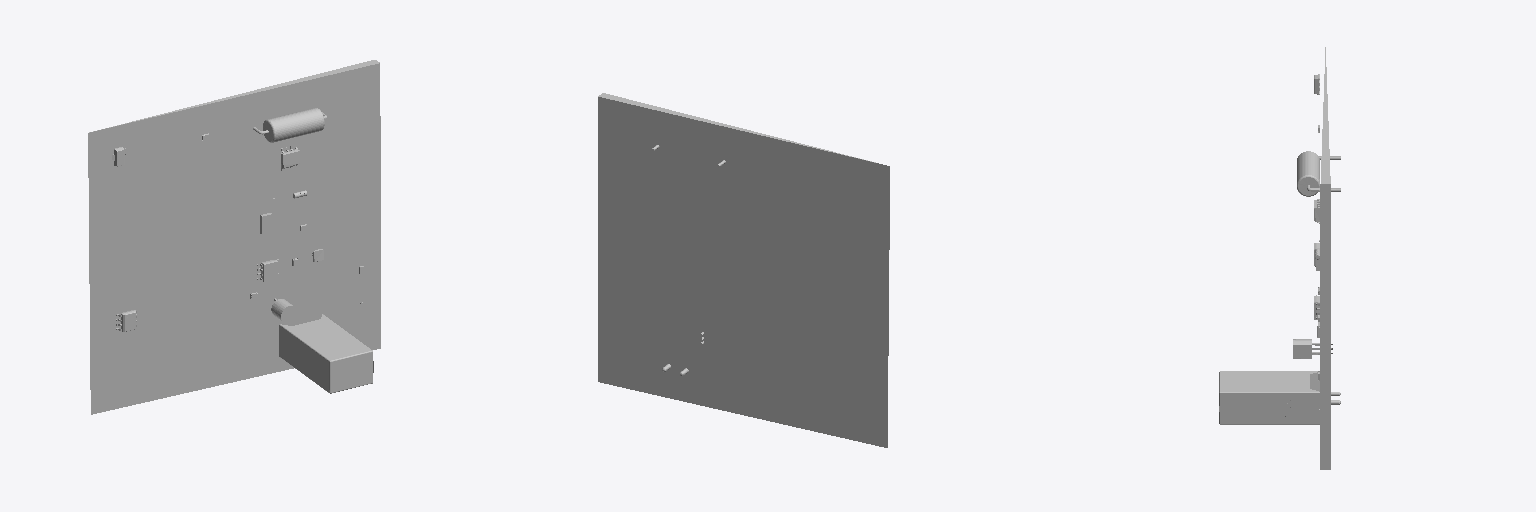
Rendered from OBJ_PCB_Industrial Motor Health Monitoring System.obj.
The picture shows the model from 3 angles: view 1: azimuth 30°, elevation 25°; view 2: azimuth 150°, elevation 25°; view 3: azimuth 270°, elevation 25°; orthographic projection.
Bounding box in the file's own units: 326 × 306 × 118.